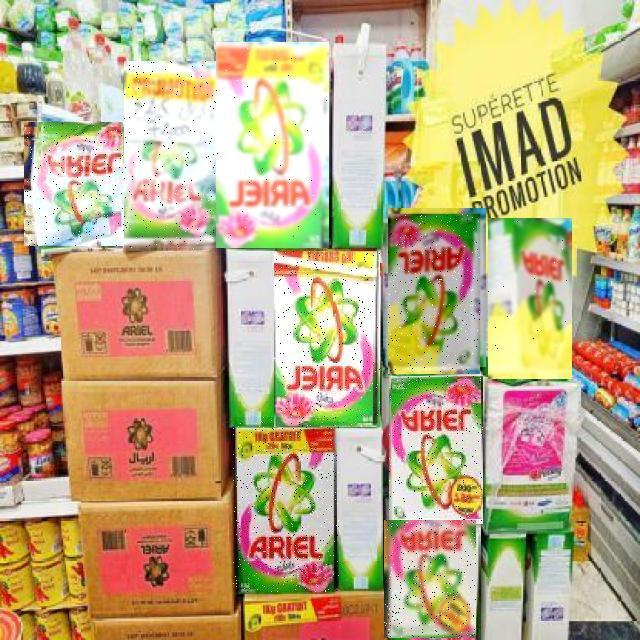Detergent: (216, 43, 329, 249), (274, 251, 380, 427), (233, 417, 339, 592), (125, 62, 219, 250), (388, 208, 486, 367), (388, 215, 480, 375), (389, 376, 483, 524), (488, 218, 572, 379), (24, 123, 124, 247), (384, 520, 476, 638)
